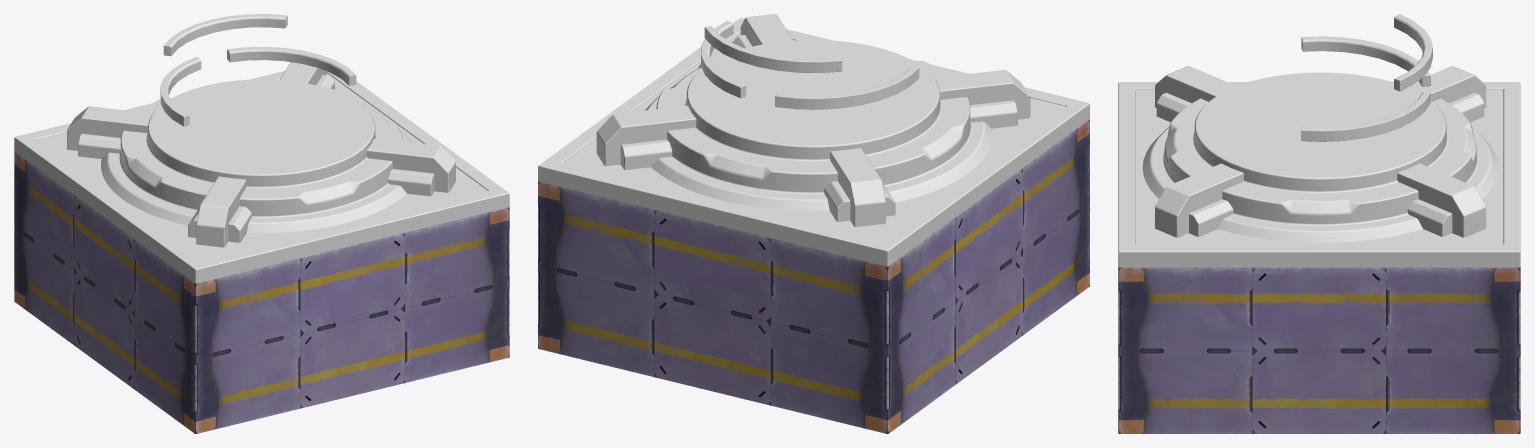
The model's file is SM_SpawnPad.fbx.
The picture shows the model from 3 angles, left to right: view 1: azimuth 30°, elevation 25°; view 2: azimuth 150°, elevation 25°; view 3: azimuth 270°, elevation 25°; orthographic projection. The views are drawn at different scales.
Visible parts, largest first — view 1: SM_SpawnPad.001, SM_SpawnPad; view 2: SM_SpawnPad.001, SM_SpawnPad; view 3: SM_SpawnPad, SM_SpawnPad.001.
Part boxes in pixels (left/top/right/bottom): SM_SpawnPad.001: left=14, top=151, right=509, bottom=433; SM_SpawnPad: left=14, top=14, right=509, bottom=283; SM_SpawnPad.001: left=538, top=119, right=1089, bottom=433; SM_SpawnPad: left=538, top=14, right=1089, bottom=266; SM_SpawnPad: left=1118, top=14, right=1520, bottom=267; SM_SpawnPad.001: left=1118, top=267, right=1520, bottom=433.
Size of the model in its own units: 600 by 496 by 600.
